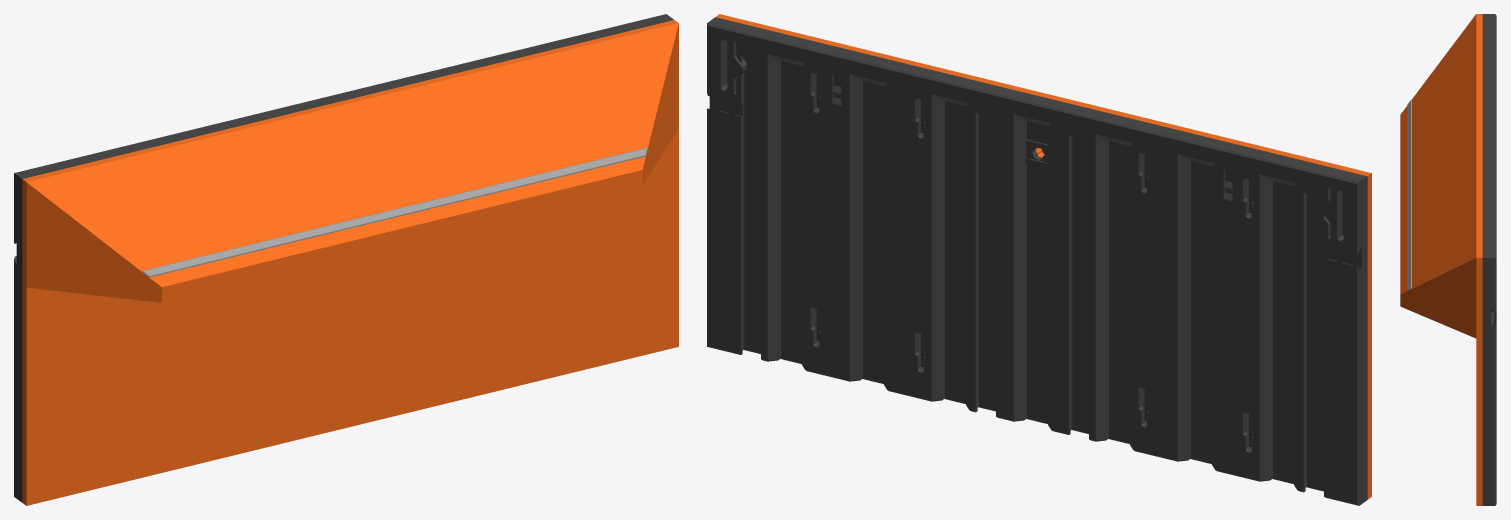
The model's file is Faceplate_ClassicDecor_2W-15H.lib.glb.
The picture shows the model from 3 angles, left to right: view 1: azimuth 30°, elevation 25°; view 2: azimuth 150°, elevation 25°; view 3: azimuth 270°, elevation 25°; orthographic projection. The views are drawn at different scales.
Parts seen in each view (by area): view 1: Faceplate_ClassicDecor_2W-15H; view 2: Faceplate_ClassicDecor_2W-15H; view 3: Faceplate_ClassicDecor_2W-15H.
Boxes of the visible parts, <box> form: Faceplate_ClassicDecor_2W-15H: <box>14,14,678,505</box>; Faceplate_ClassicDecor_2W-15H: <box>707,14,1371,505</box>; Faceplate_ClassicDecor_2W-15H: <box>1400,14,1496,505</box>.
Size of the model in its own units: 175 by 83 by 29.2.
